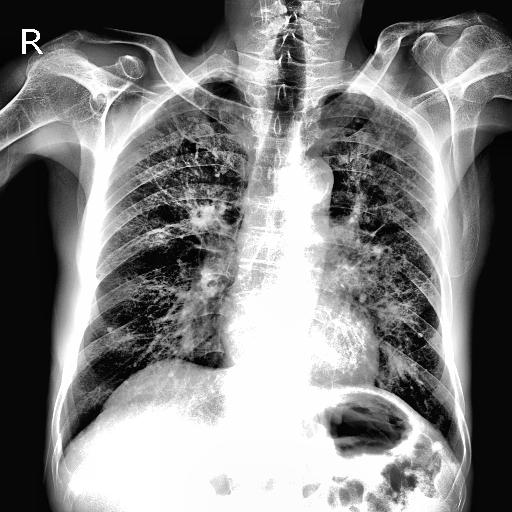0- Aortic enlargement: (274, 154, 334, 210)
11- Pleural thickening: (314, 85, 364, 103), (200, 72, 234, 82)
13- Pulmonary fibrosis: (318, 114, 434, 414), (102, 121, 236, 375)
2- Calcification: (316, 182, 332, 200)
5- ILD: (318, 114, 434, 414), (102, 121, 236, 375), (354, 238, 426, 350)
7- Lung Opacity: (336, 242, 426, 328)
9- Other lesion: (96, 359, 200, 418)
